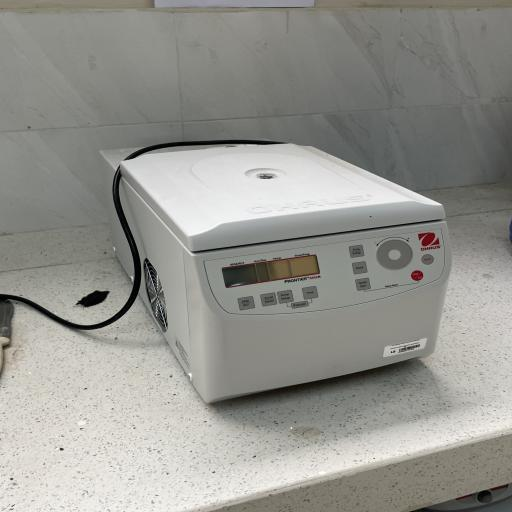Centrifuga_Ohaus_Frontier: (80, 130, 456, 410)
